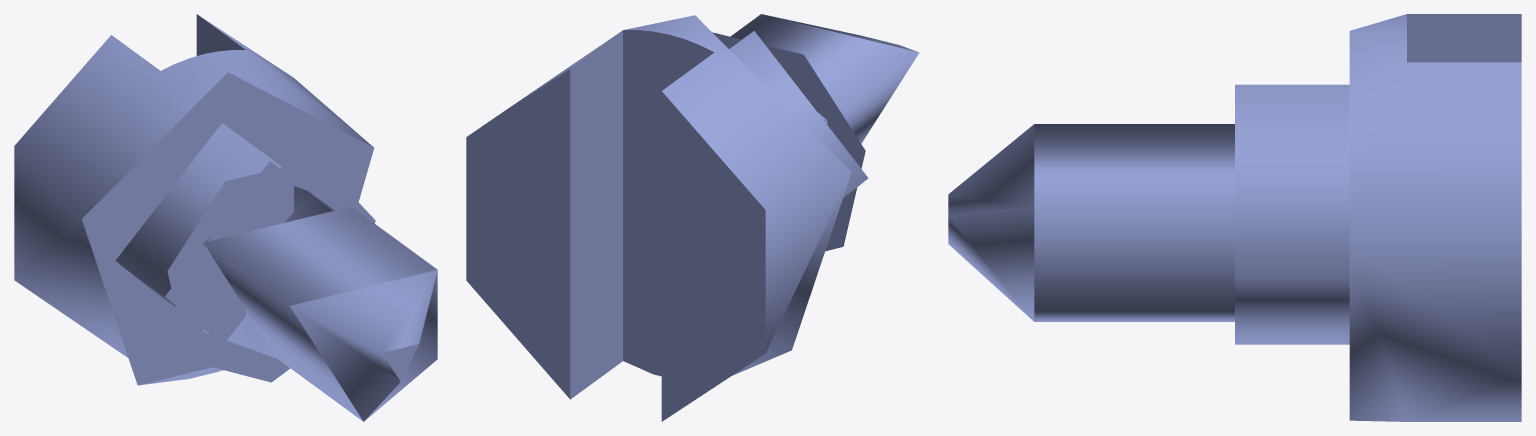
File: Copie de Vis piece longue^Horloge Comtoise Verge - Sonnerie.obj
3 views of the same model, side by side, from view 1: azimuth 30°, elevation 25°; view 2: azimuth 150°, elevation 25°; view 3: azimuth 270°, elevation 25° (orthographic). The views are drawn at different scales.
Visible parts, largest first — view 1: Face_1, Face_2, Face_10, Face_11, Face_8, Face_5, Face_9, Face_4, Face_7, Face_12; view 2: Face_3, Face_4, Face_1, Face_7, Face_9, Face_10, Face_5, Face_8; view 3: Face_1, Face_10, Face_5, Face_11, Face_6.
Boxes of the visible parts, x1,y1,x2,y2 form: Face_1: (14, 16, 373, 385); Face_2: (82, 72, 374, 385); Face_10: (203, 206, 437, 421); Face_11: (290, 270, 437, 421); Face_8: (167, 159, 375, 382); Face_5: (115, 123, 335, 358); Face_9: (165, 207, 245, 340); Face_4: (246, 161, 293, 232); Face_7: (196, 14, 245, 55); Face_12: (382, 344, 418, 381); Face_3: (661, 91, 765, 421); Face_4: (466, 69, 570, 399); Face_1: (476, 15, 851, 375); Face_7: (570, 30, 622, 399); Face_9: (623, 30, 713, 376); Face_10: (730, 14, 918, 143); Face_5: (729, 31, 868, 198); Face_8: (712, 32, 865, 251); Face_1: (1349, 14, 1521, 421); Face_10: (1034, 124, 1234, 321); Face_5: (1235, 84, 1349, 344); Face_11: (948, 124, 1034, 321); Face_6: (1407, 14, 1521, 62).
Bounding box in the file's own units: 0.00342 × 0.00359 × 0.005.
